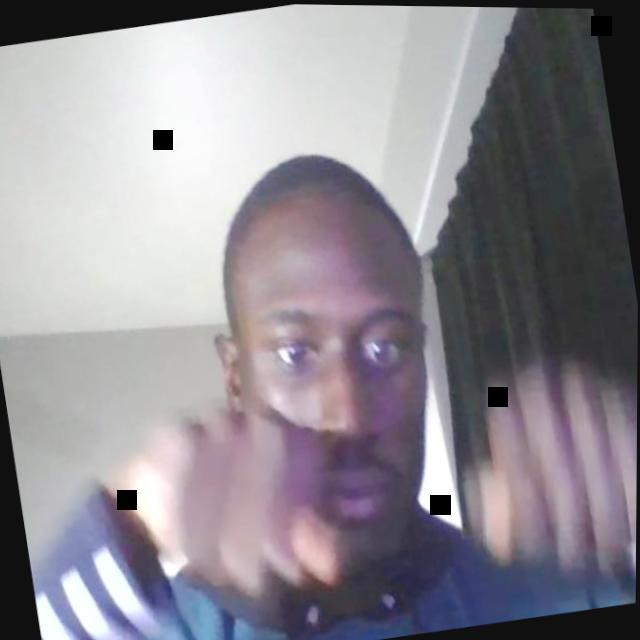NO-Mask: (223, 242, 457, 569)
